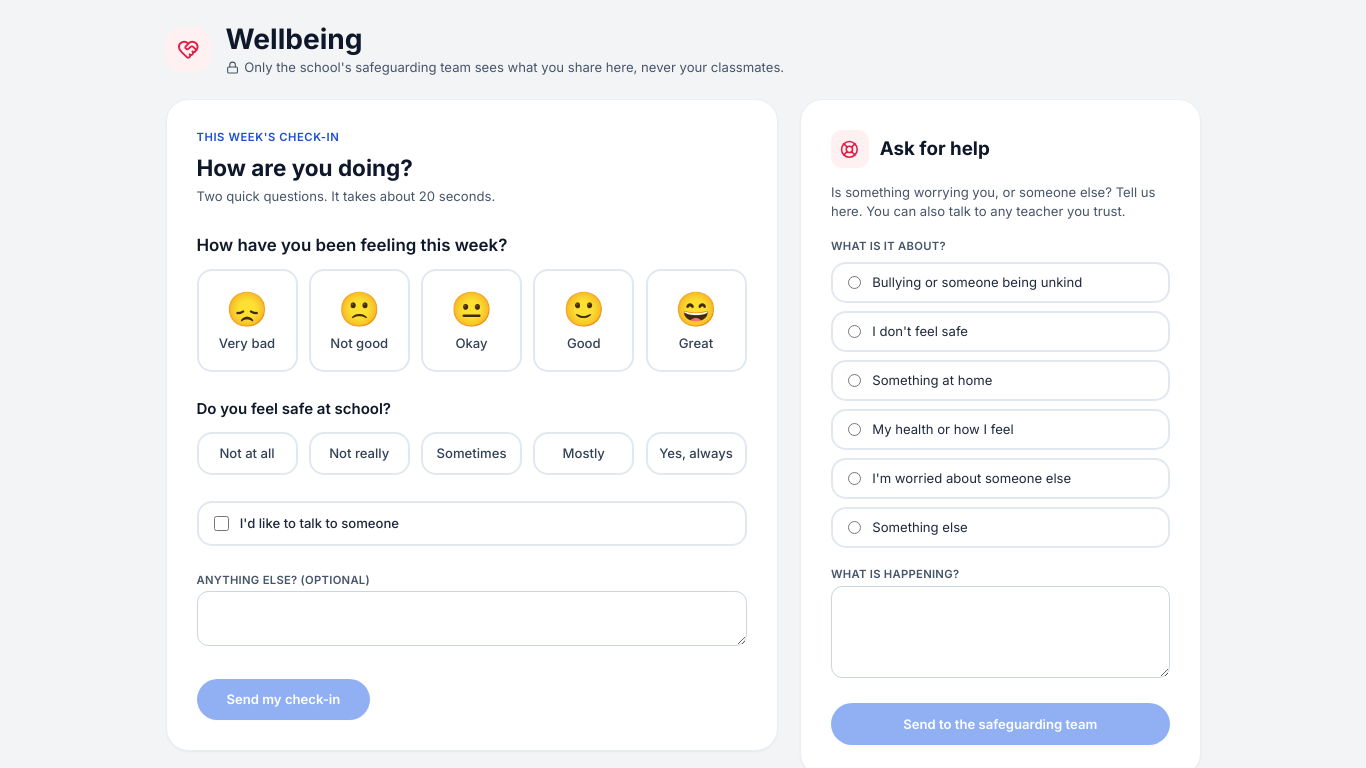
Test: Wellbeing (students) › sends the weekly check-in once both questions are answered
This screenshot has width=1366, height=768.
Expected: the button "Send my check-in" is disabled, [196,679,370,720]
Click the radio button labelled "🙁 Not good": (359, 321) [309,269,410,372]
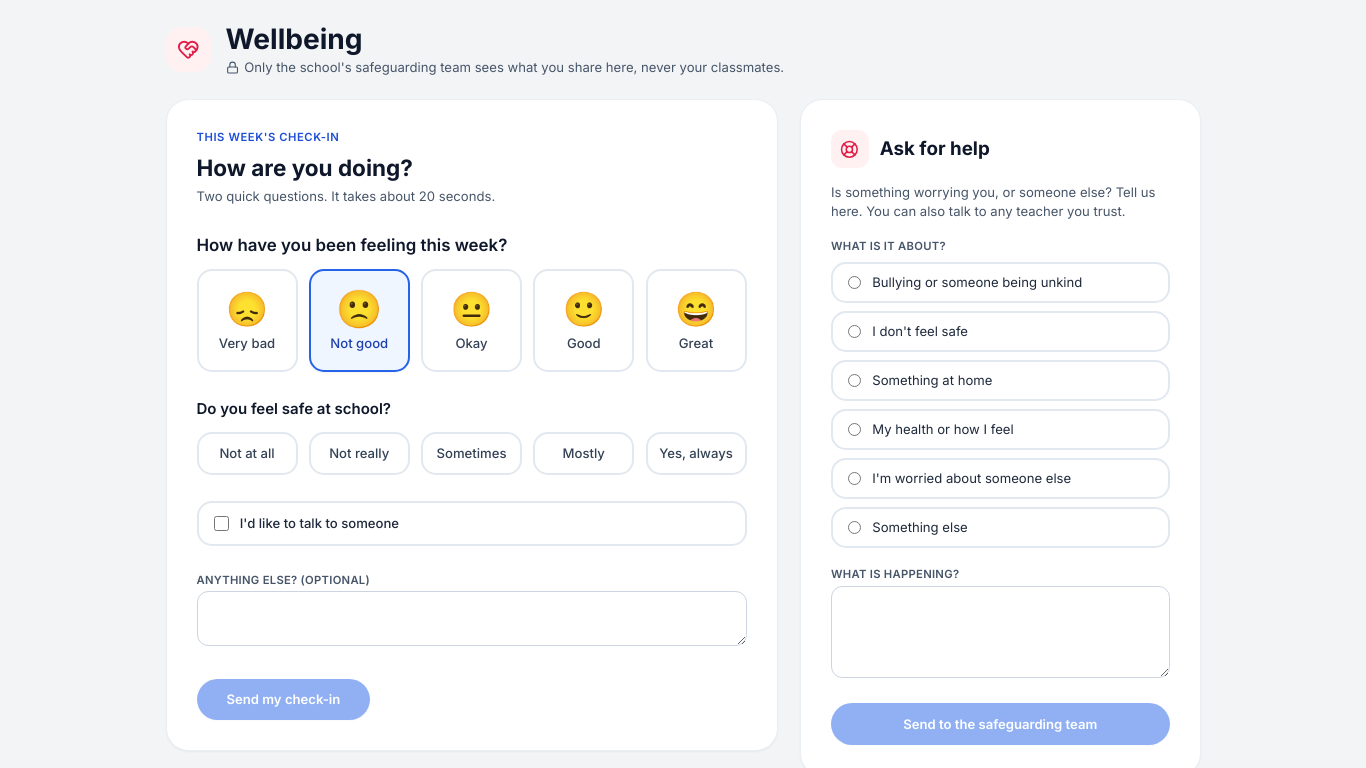
Expected: the button "Send my check-in" is disabled, [196,679,370,720]
Click the radio button labelled "Mostly": (584, 453) [533,432,634,475]
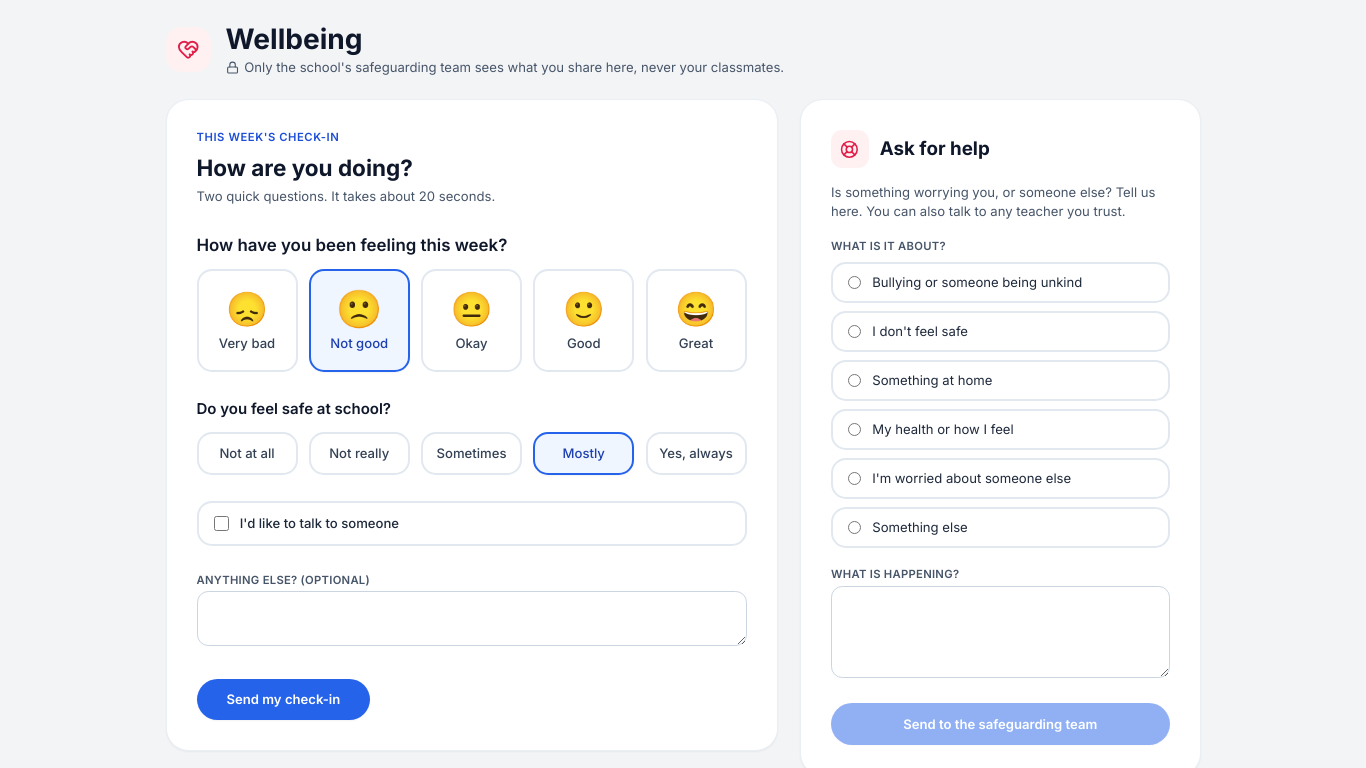
Click the checkbox labelled "I'd like to talk to someone": (221, 524) [214,516,228,531]
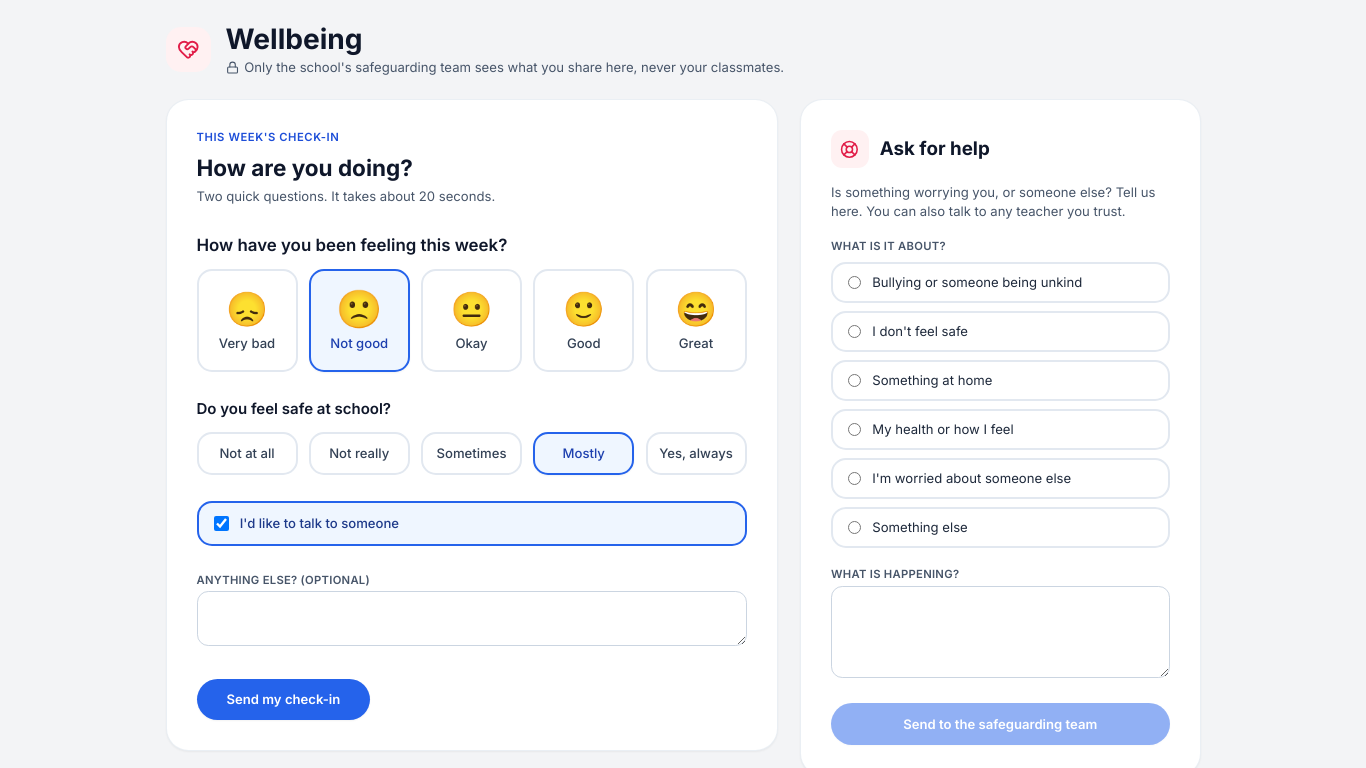
Click the button "Send my check-in": (283, 700) [196,679,370,720]
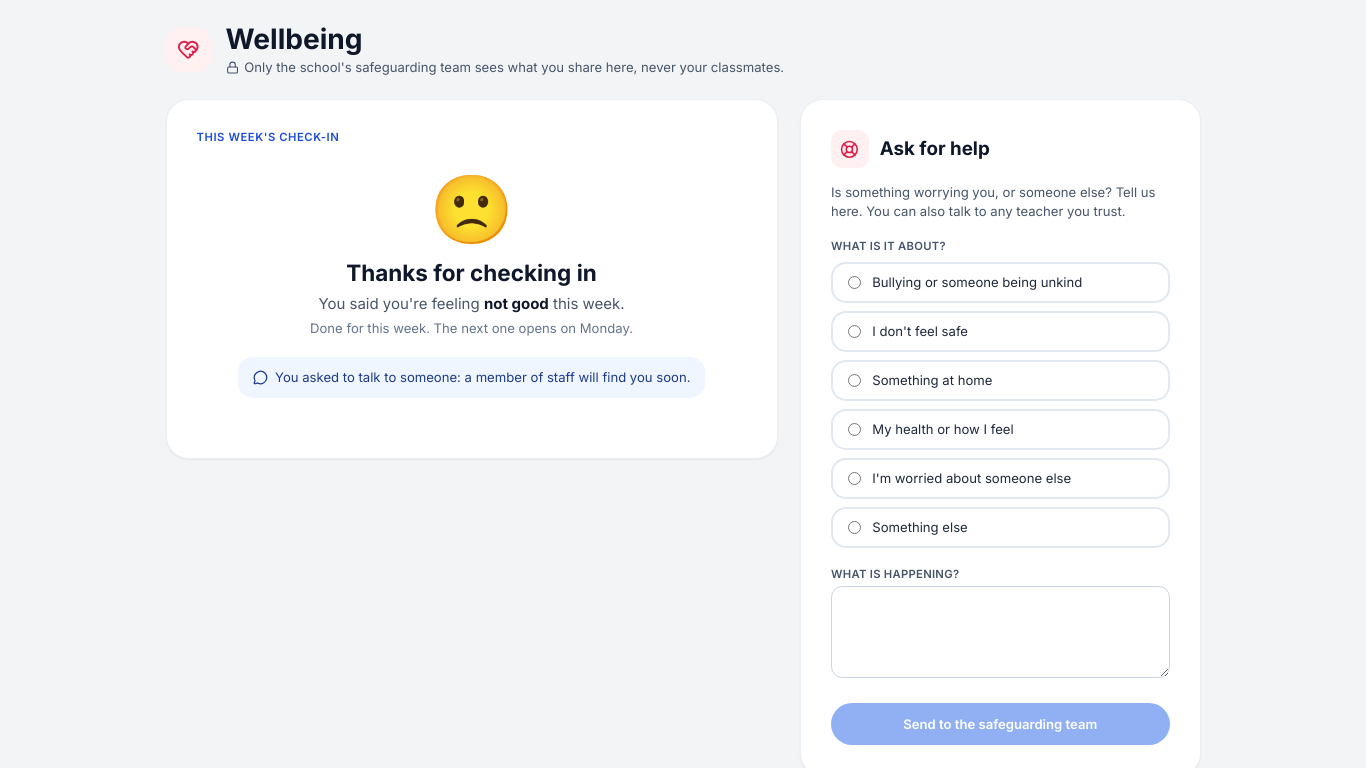
Result: the text "a member of staff will find you soon" is shown at [275,369,690,385]
